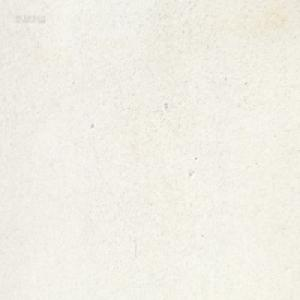Washer: (163, 101, 167, 108)
